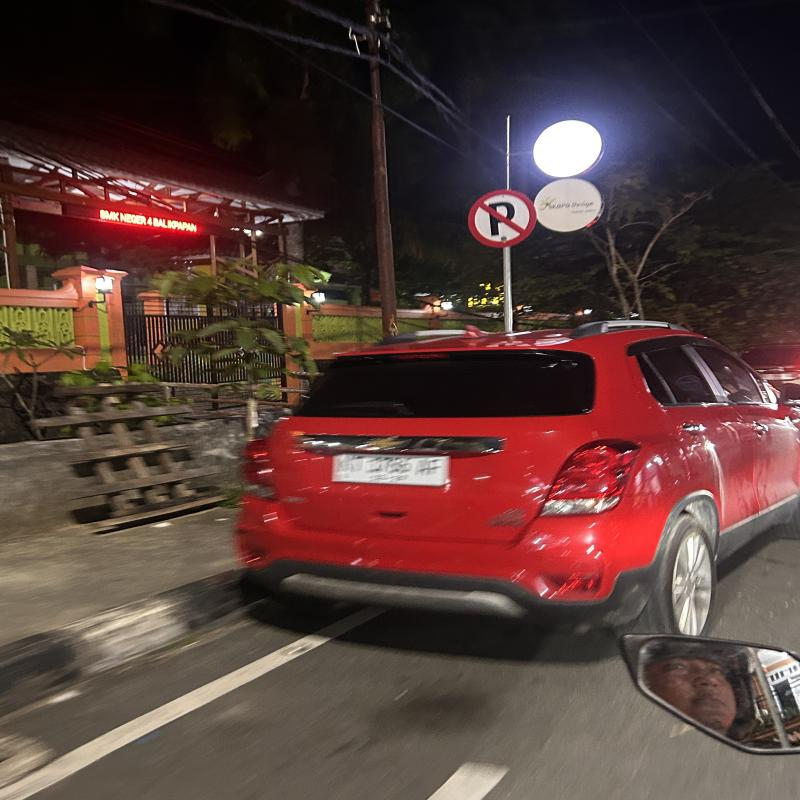license plate on a car: (332, 447, 456, 489)
